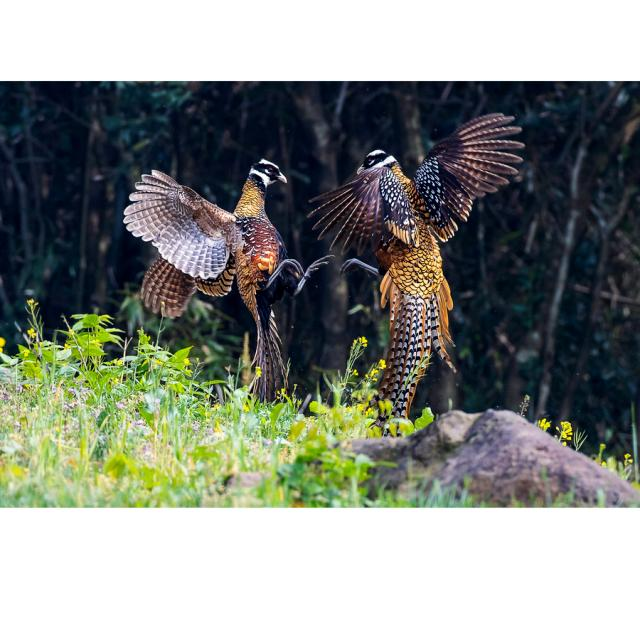Reeves-s Pheasant: (376, 268, 458, 419), (248, 309, 290, 403)
